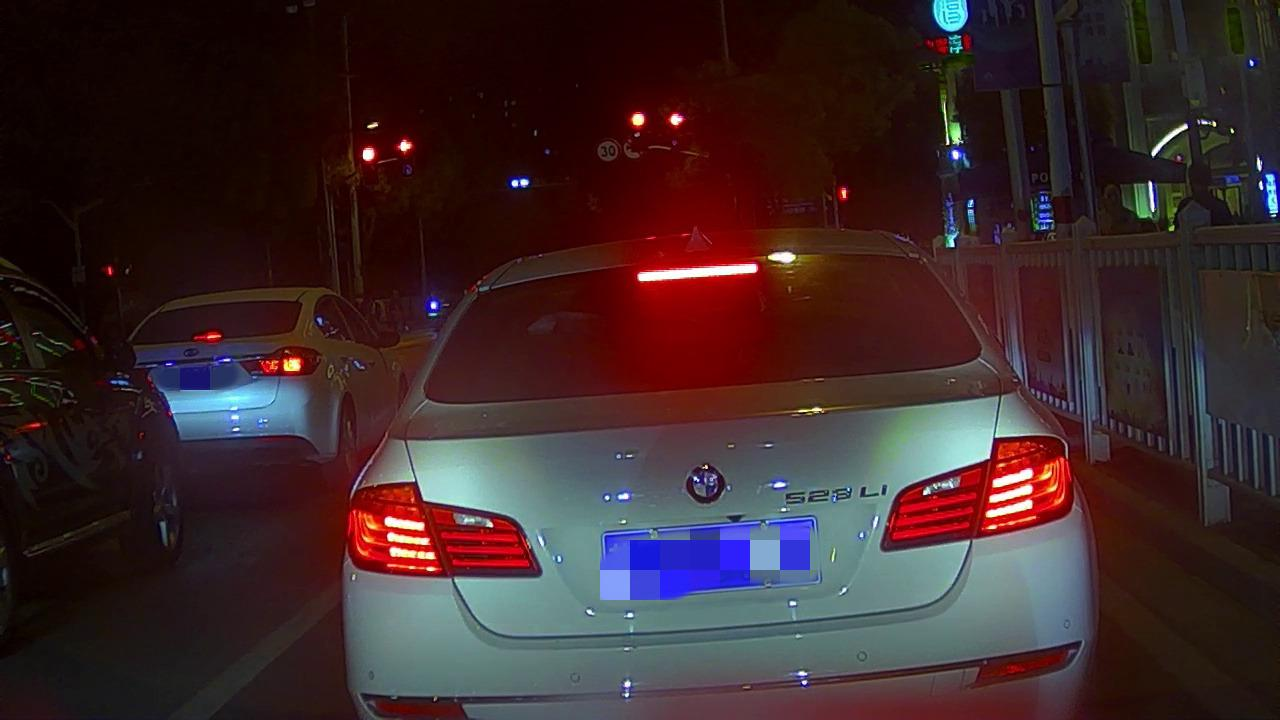traffic_light: (623, 106, 648, 134), (356, 142, 381, 166), (665, 107, 688, 132), (393, 132, 415, 158)
